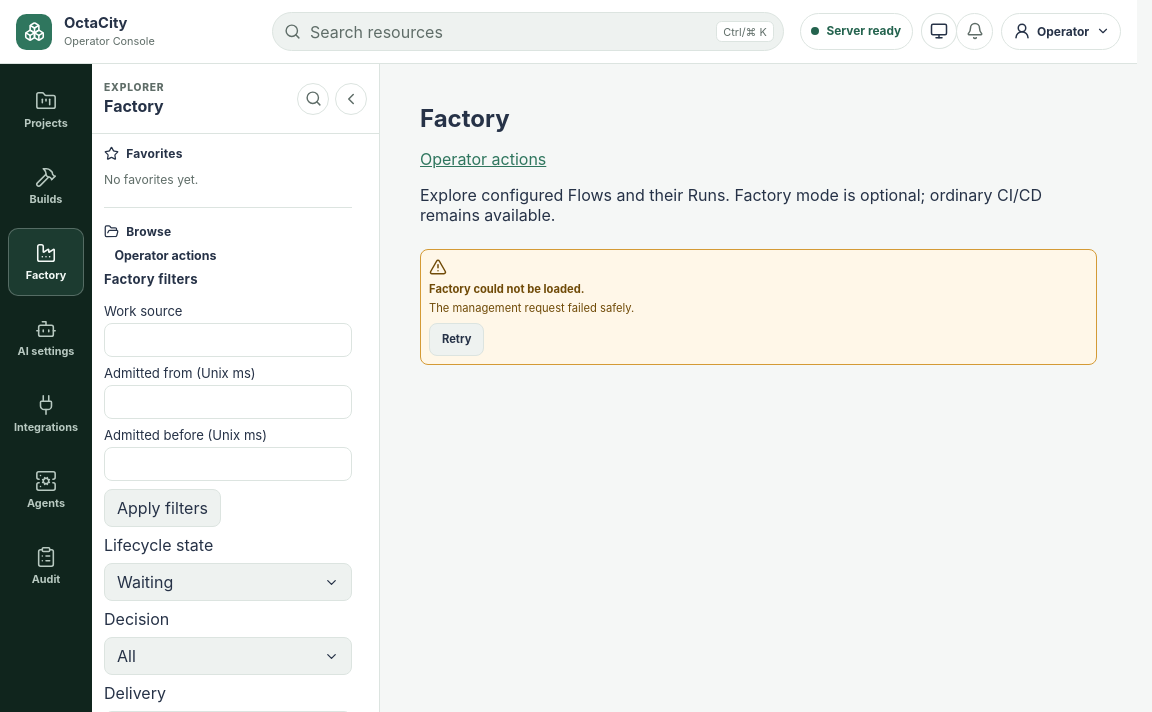
Scenario: App › opens the optional Factory activity with Favorites and URL-backed filters
Expected: the 2nd heading "Factory" is shown, x1=420 y1=104 x2=510 y2=133
Expected: the link "Factory" is shown, x1=8 y1=228 x2=84 y2=296
Click the button named "Search Factory" at {"x": 313, "y": 99}, box x1=297 y1=83 x2=329 y2=115
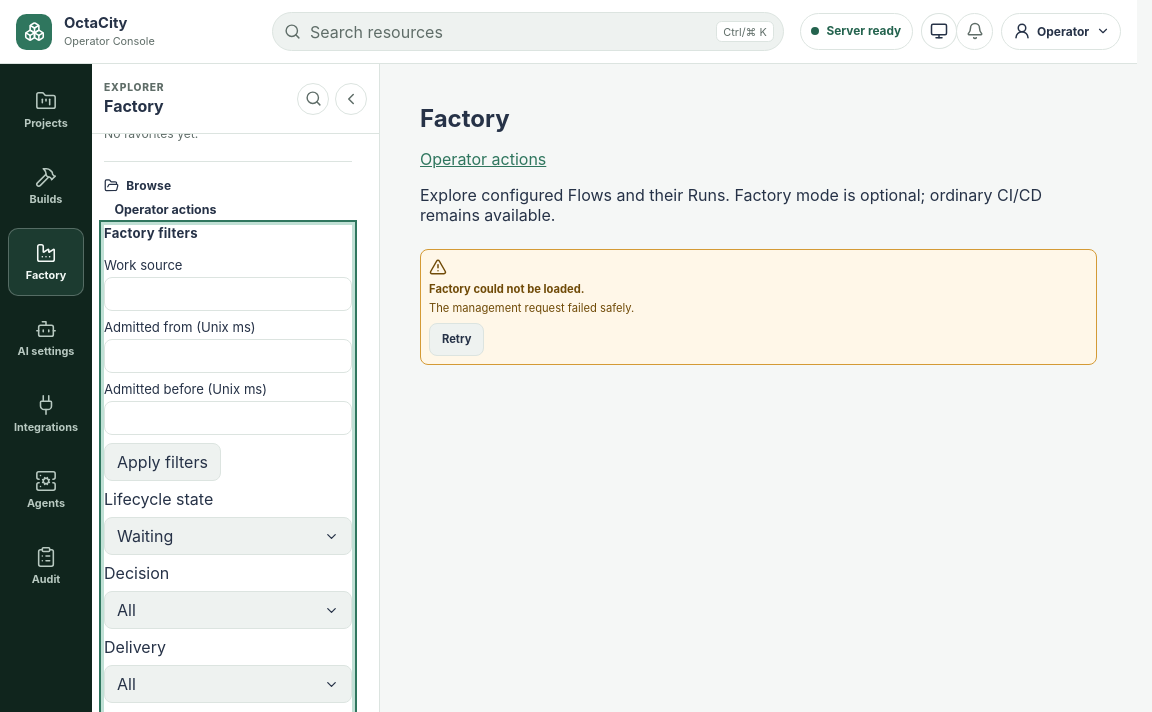
Click the button named "Collapse Factory explorer" at {"x": 351, "y": 99}, box x1=335 y1=83 x2=367 y2=115
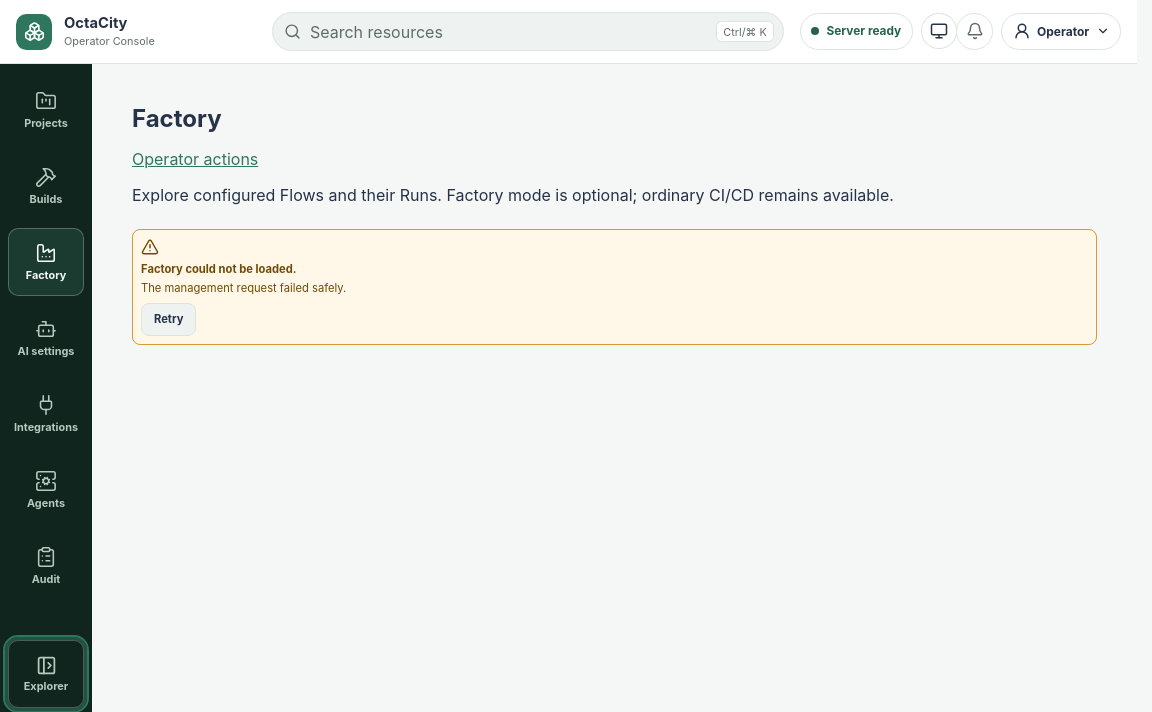
Click the button with aria-label "Open Factory explorer" at {"x": 46, "y": 674}, box x1=8 y1=640 x2=84 y2=708
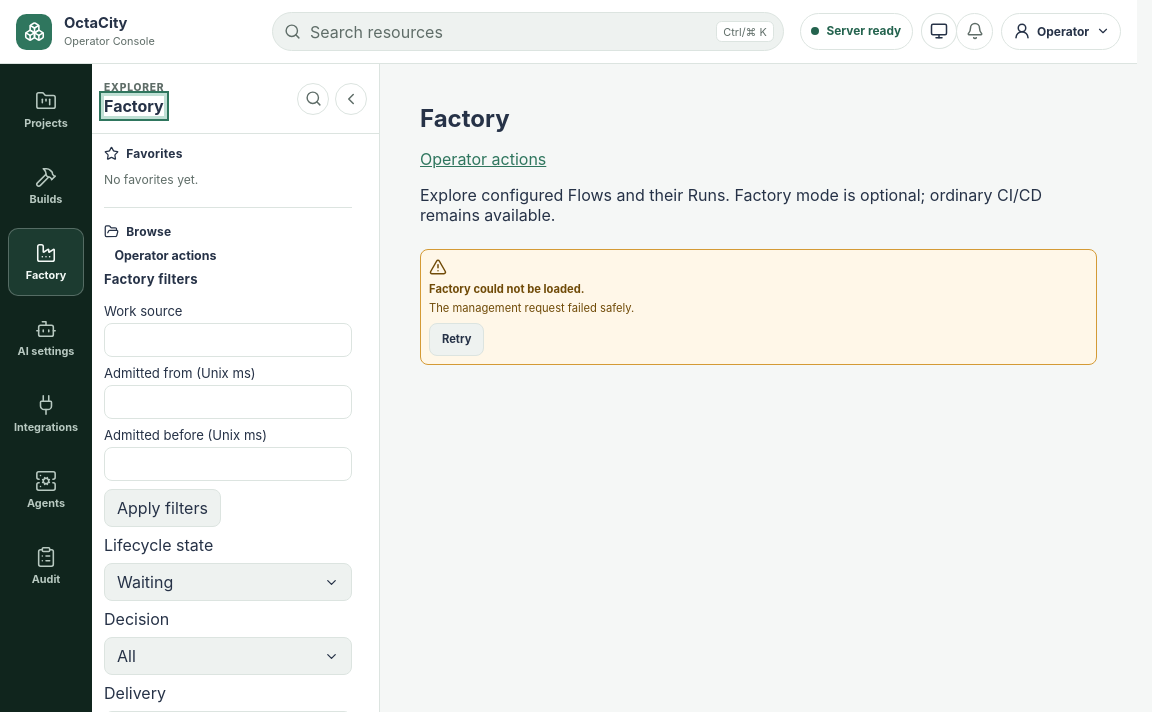
Now the dropdown named "Lifecycle state" is shown, box x1=104 y1=563 x2=352 y2=601
